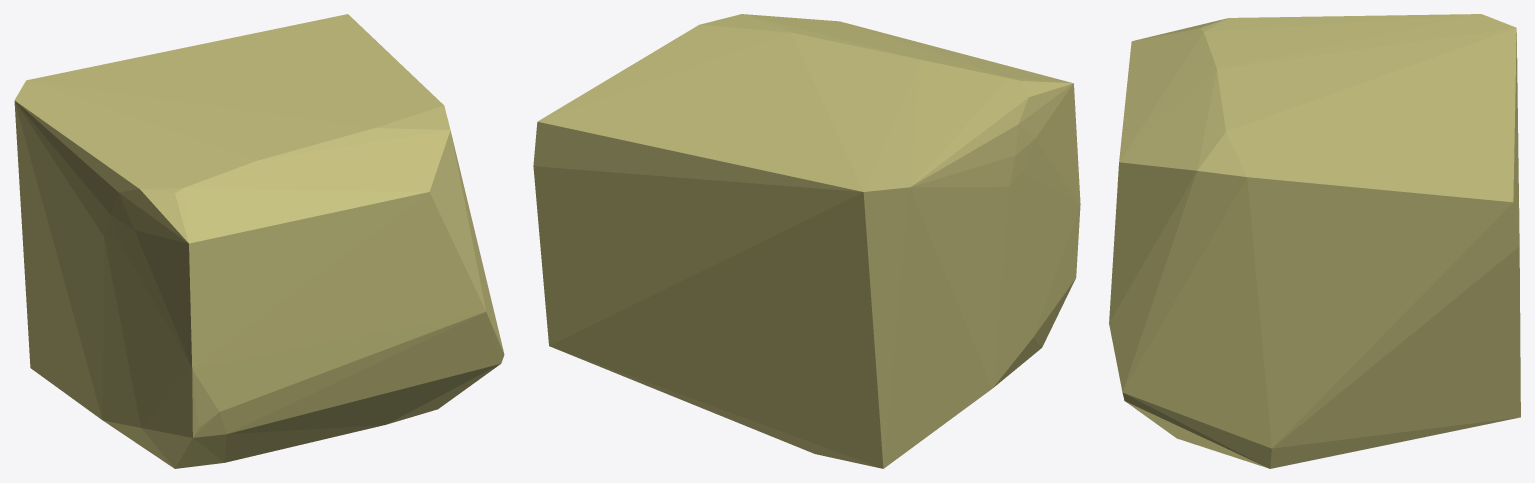
Rendered from pallet_assembly_red_a06.glb.
3 renders of one model, left to right at view 1: azimuth 30°, elevation 25°; view 2: azimuth 150°, elevation 25°; view 3: azimuth 270°, elevation 25°, orthographic. The views are drawn at different scales.
Parts seen in each view (by area): view 1: geometry_0; view 2: geometry_0; view 3: geometry_0.
Boxes of the visible parts, x1,y1,x2,y2 form: geometry_0: (14,14,504,468); geometry_0: (533,14,1080,468); geometry_0: (1109,14,1520,468).
Bounding box in the file's own units: 0.4696 × 0.3603 × 0.4531.
